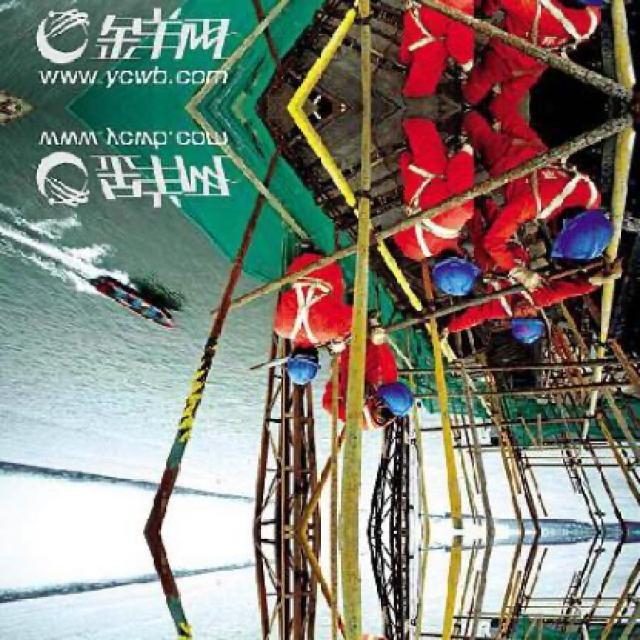con casco: (522, 170, 638, 274), (316, 348, 418, 426), (489, 248, 566, 343), (412, 216, 491, 305)
